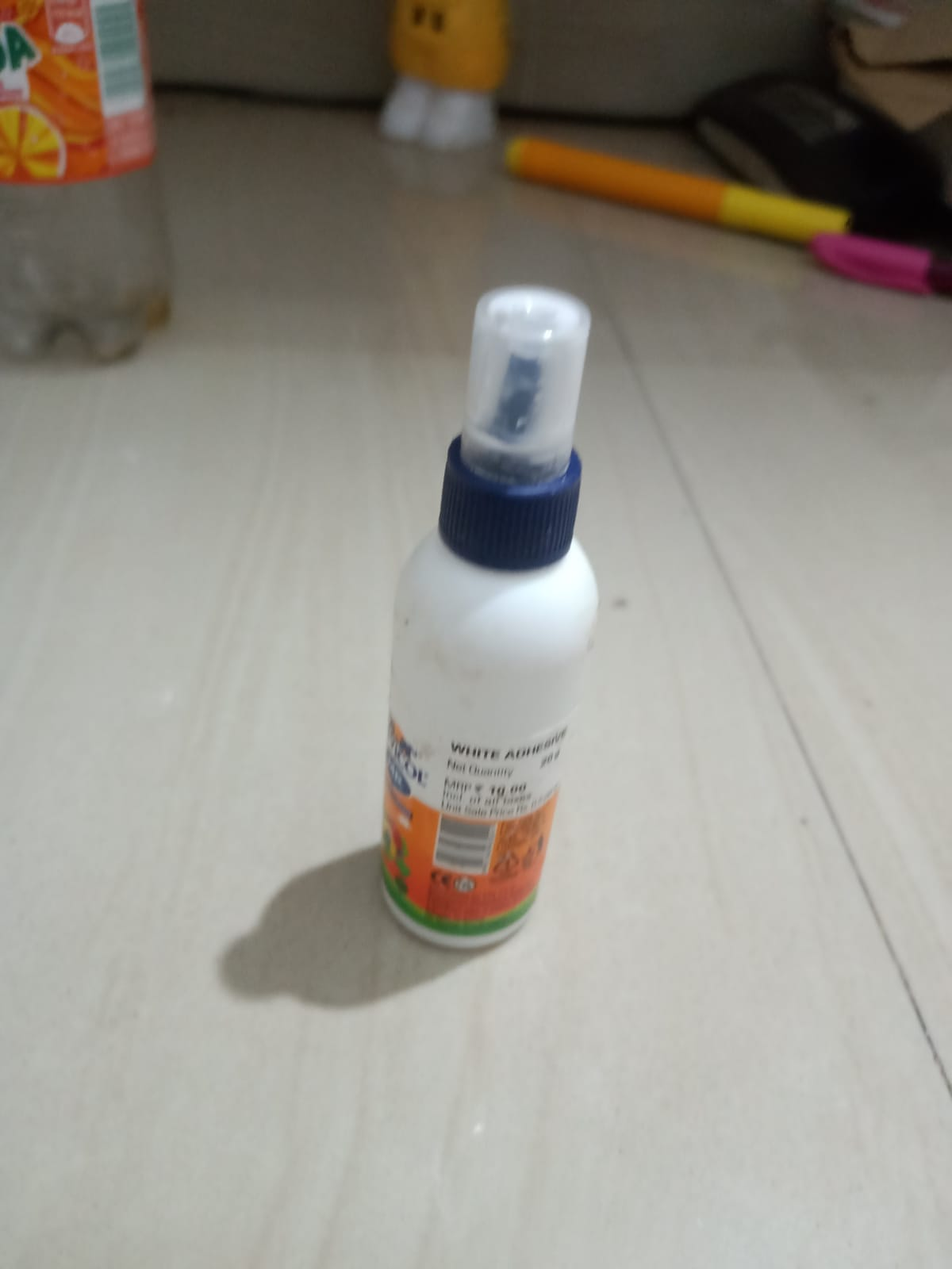plastic: (289, 252, 634, 967)
